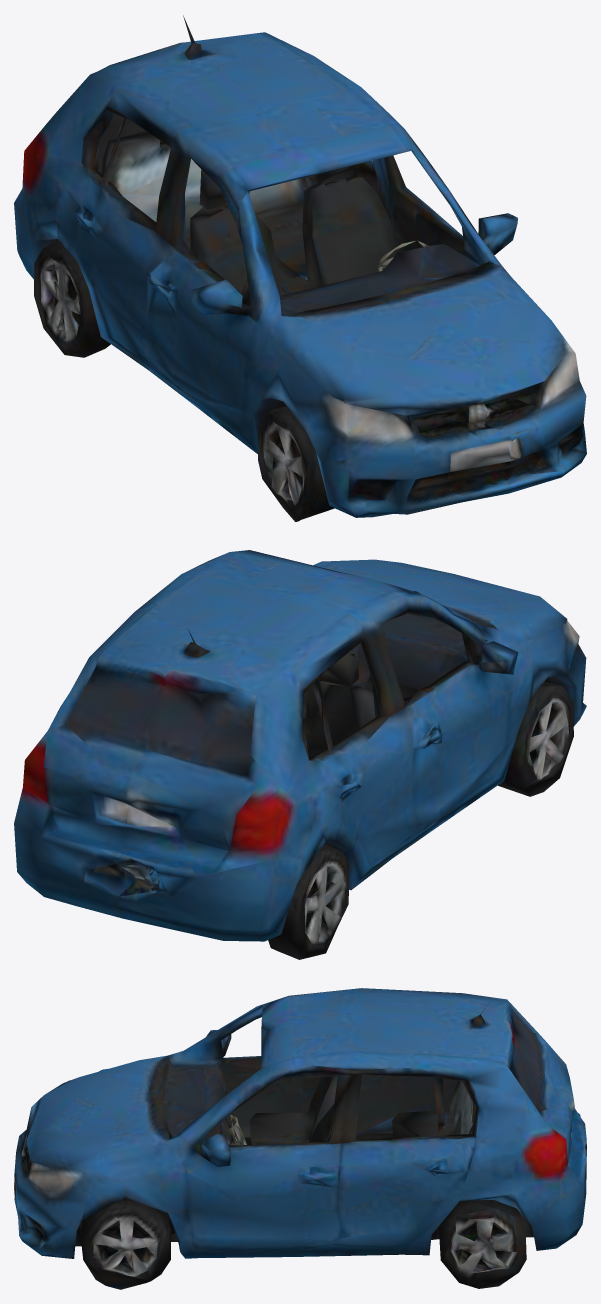
The model's file is veh-hatchback.glb.
The picture shows the model from 3 angles, top to bottom: view 1: azimuth 30°, elevation 25°; view 2: azimuth 150°, elevation 25°; view 3: azimuth 270°, elevation 25°; orthographic projection. The views are drawn at different scales.
Parts seen in each view (by area): view 1: tripo_node_6dfece4a-e5ee-4465-a15a-8bbbf625bd71; view 2: tripo_node_6dfece4a-e5ee-4465-a15a-8bbbf625bd71; view 3: tripo_node_6dfece4a-e5ee-4465-a15a-8bbbf625bd71.
Boxes of the visible parts, bbox=[...] form: tripo_node_6dfece4a-e5ee-4465-a15a-8bbbf625bd71: bbox=[14, 15, 586, 521]; tripo_node_6dfece4a-e5ee-4465-a15a-8bbbf625bd71: bbox=[14, 550, 586, 959]; tripo_node_6dfece4a-e5ee-4465-a15a-8bbbf625bd71: bbox=[14, 988, 586, 1289].
Size of the model in its own units: 0.5019 by 0.461 by 0.9788.
Materials: 1 (1 with a texture image).
